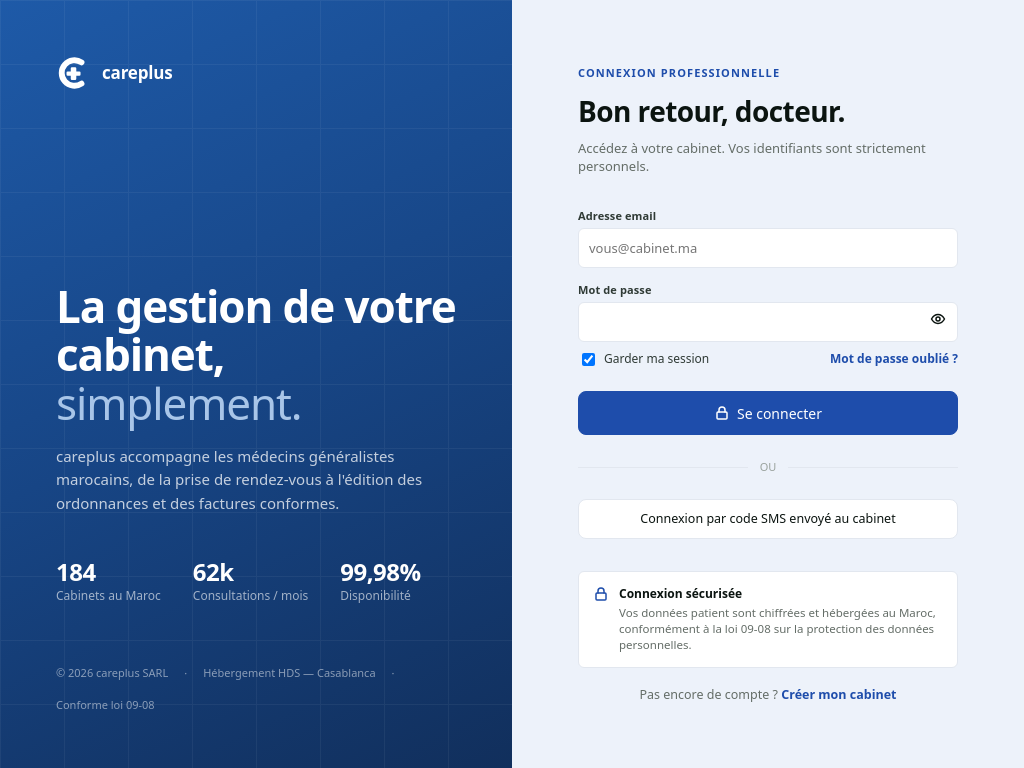
Test: <LoginPage /> › rejects an empty password client-side via zod
Click the button "Se connecter". click: point(768, 413)
box: [578, 391, 958, 435]
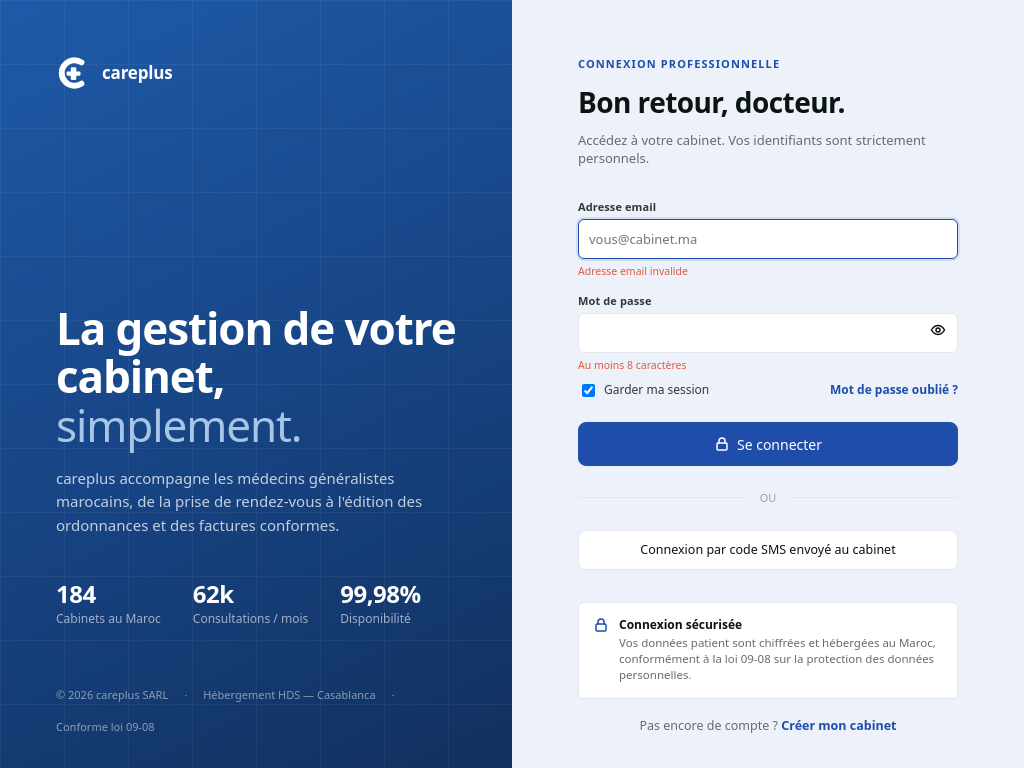
Now the text "Au moins 8 caractères" is shown, box [578, 358, 687, 372]
